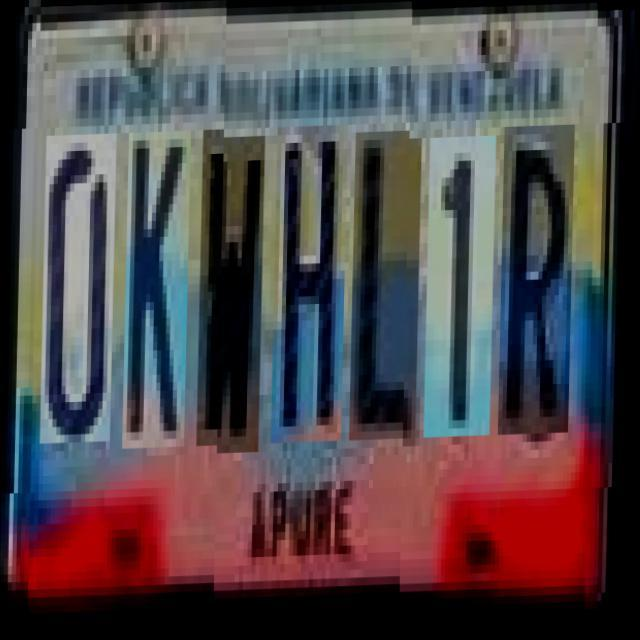0: (42, 134, 117, 444)
1: (426, 123, 497, 424)
H: (273, 120, 349, 438)
K: (124, 132, 192, 450)
L: (352, 125, 423, 435)
R: (500, 112, 576, 422)
W: (198, 130, 266, 448)
